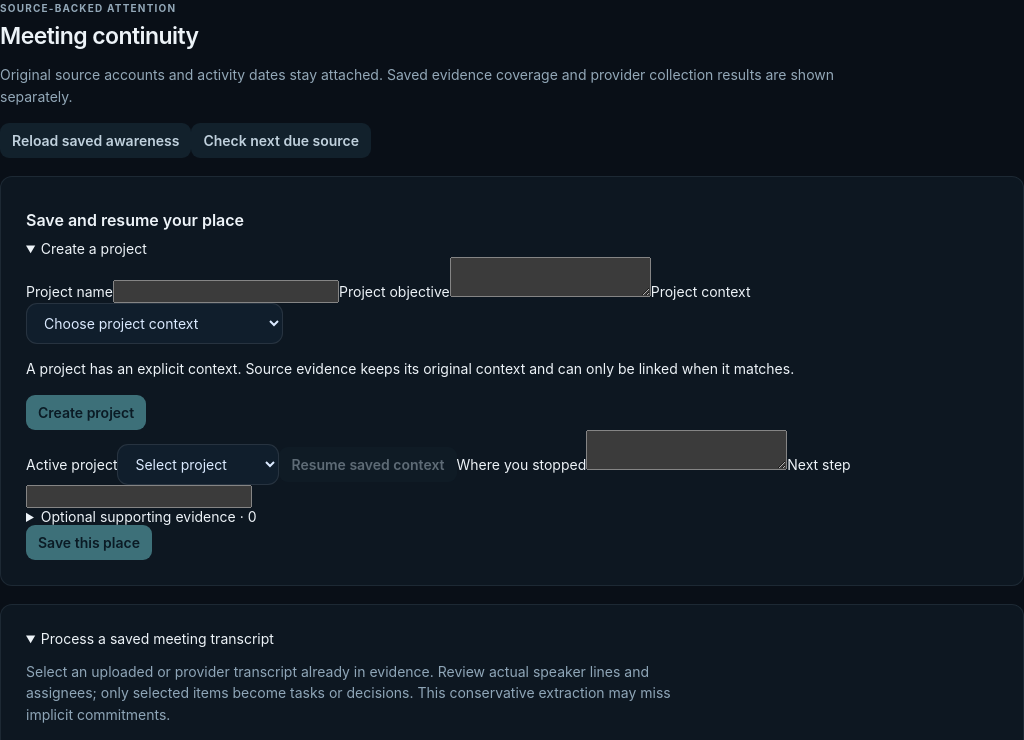
Scenario: creates an explicitly scoped project and reuses its request ID after setup failure
The image size is (1024, 740).
Type "Amber review" into the field labelled "Project name" at {"x": 226, "y": 292}, box [113, 280, 339, 303]
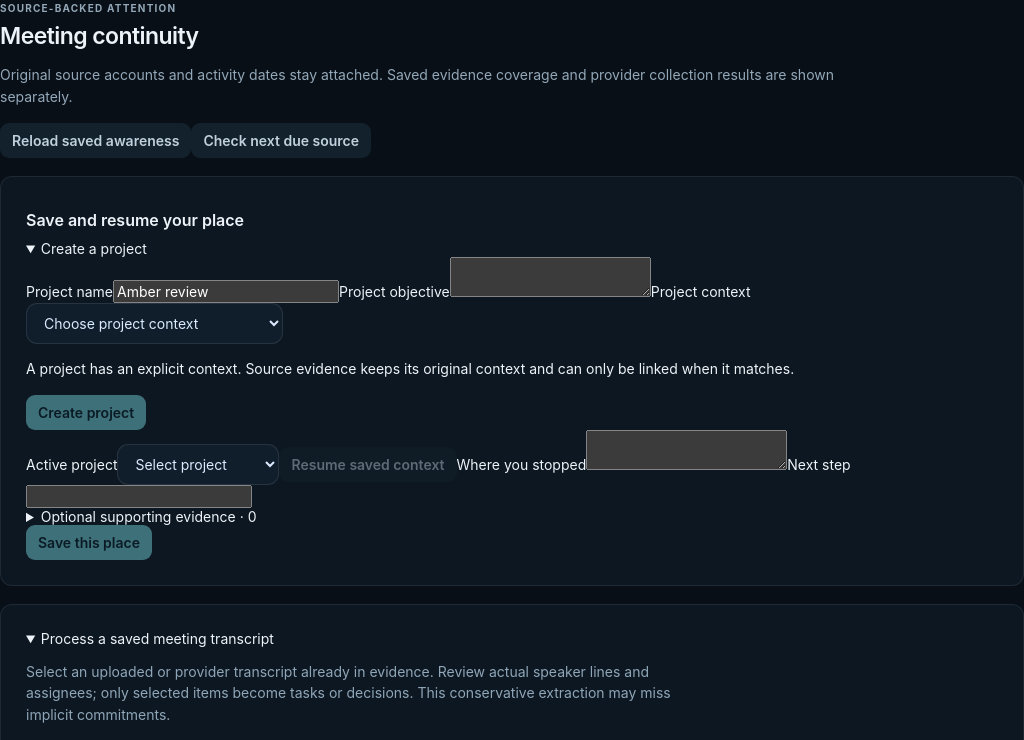
Type "Review the synthetic evidence" into the text box labelled "Project objective" at {"x": 550, "y": 277}, box [450, 257, 651, 297]
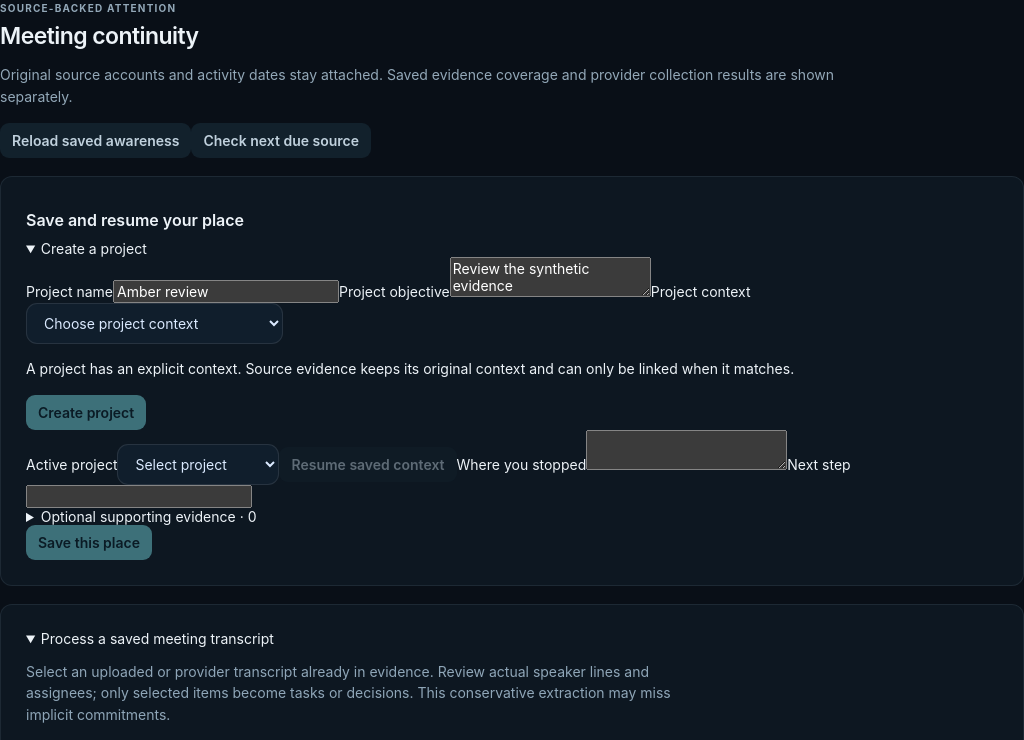
Check: the button "Create project" is disabled, box [26, 395, 146, 430]
Select "Personal" in the dropdown labelled "Project context" at {"x": 154, "y": 324}, box [26, 303, 283, 344]
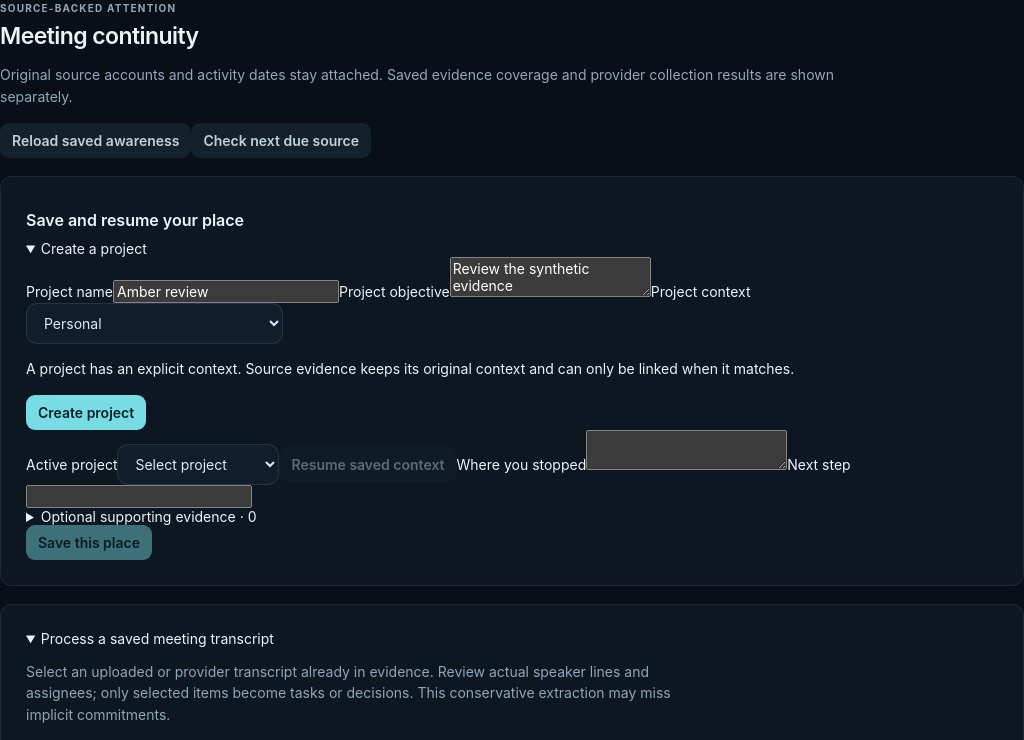
Click the button "Create project" at {"x": 86, "y": 412}, box [26, 395, 146, 430]
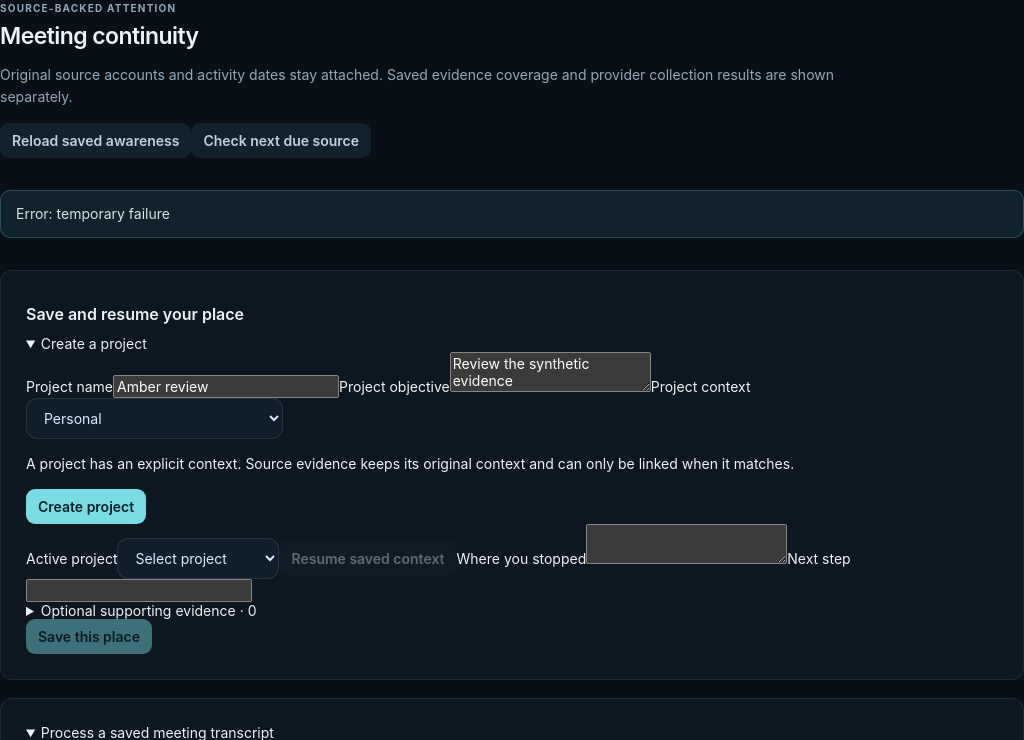
Check: the text "Error: temporary failure" is shown, box [0, 190, 1023, 238]
Click the button "Create project" at {"x": 86, "y": 506}, box [26, 489, 146, 524]
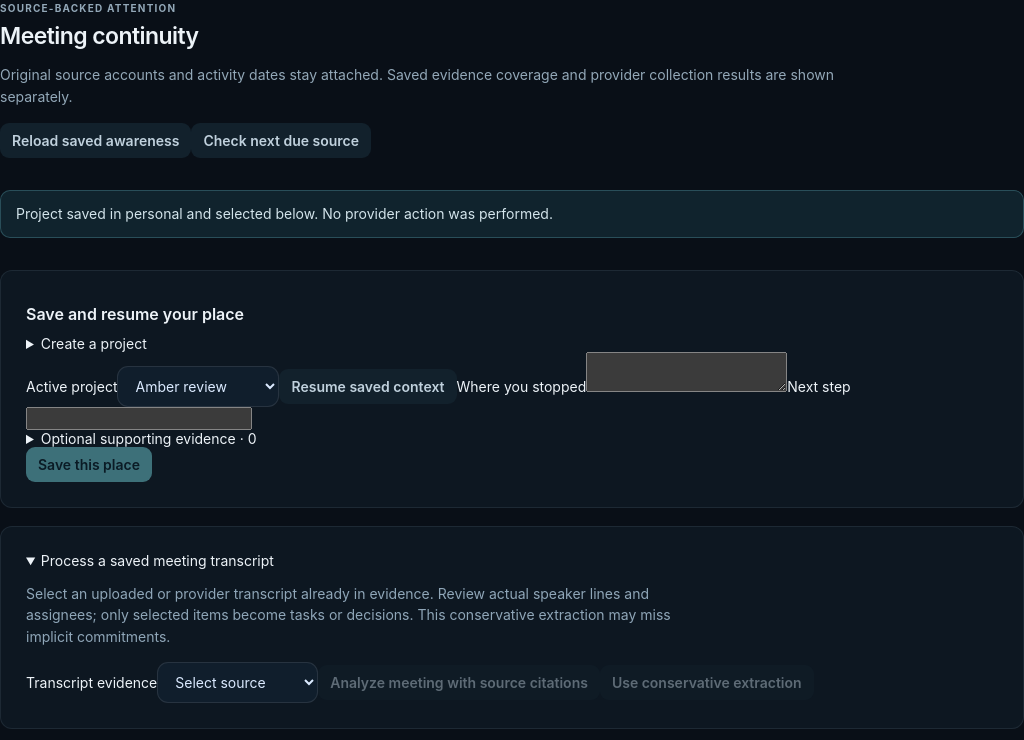
Check: the text "Project saved in personal" is shown, box [16, 205, 553, 222]
Check: the dropdown labelled "Active project" shows "Amber review", box [118, 366, 280, 407]
